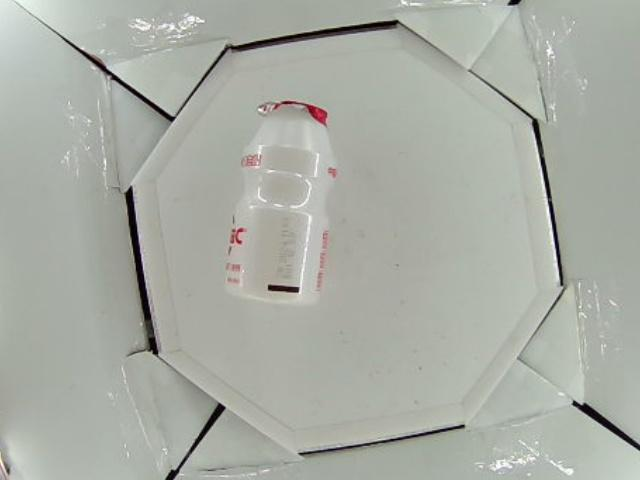Bottle: (225, 101, 337, 306)
